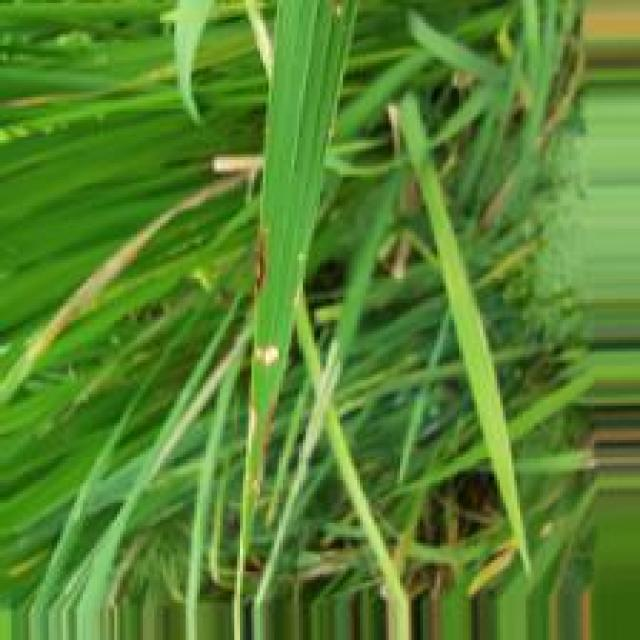Brown_Spot: (256, 229, 268, 298)
